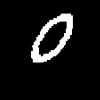chain: (31, 14, 72, 61)
